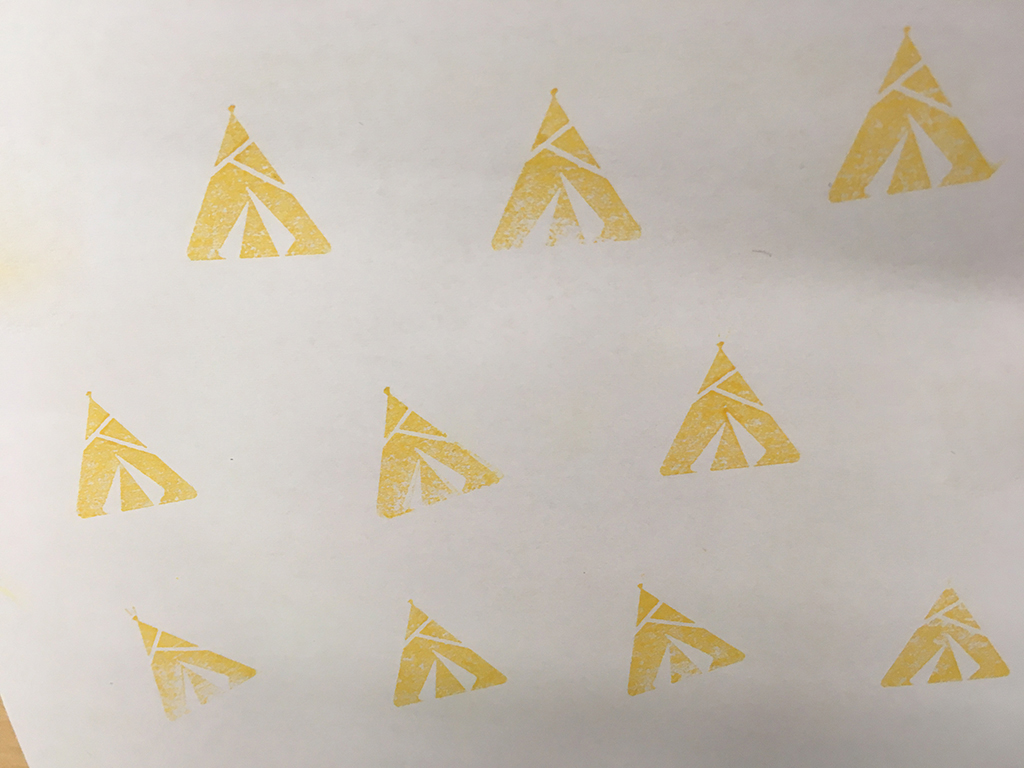tent: (816, 16, 1004, 208), (475, 76, 662, 264), (173, 90, 349, 277), (354, 376, 514, 533), (652, 326, 805, 479), (60, 372, 207, 530), (111, 598, 270, 736), (876, 560, 1015, 703), (609, 570, 753, 705), (373, 591, 516, 715)
